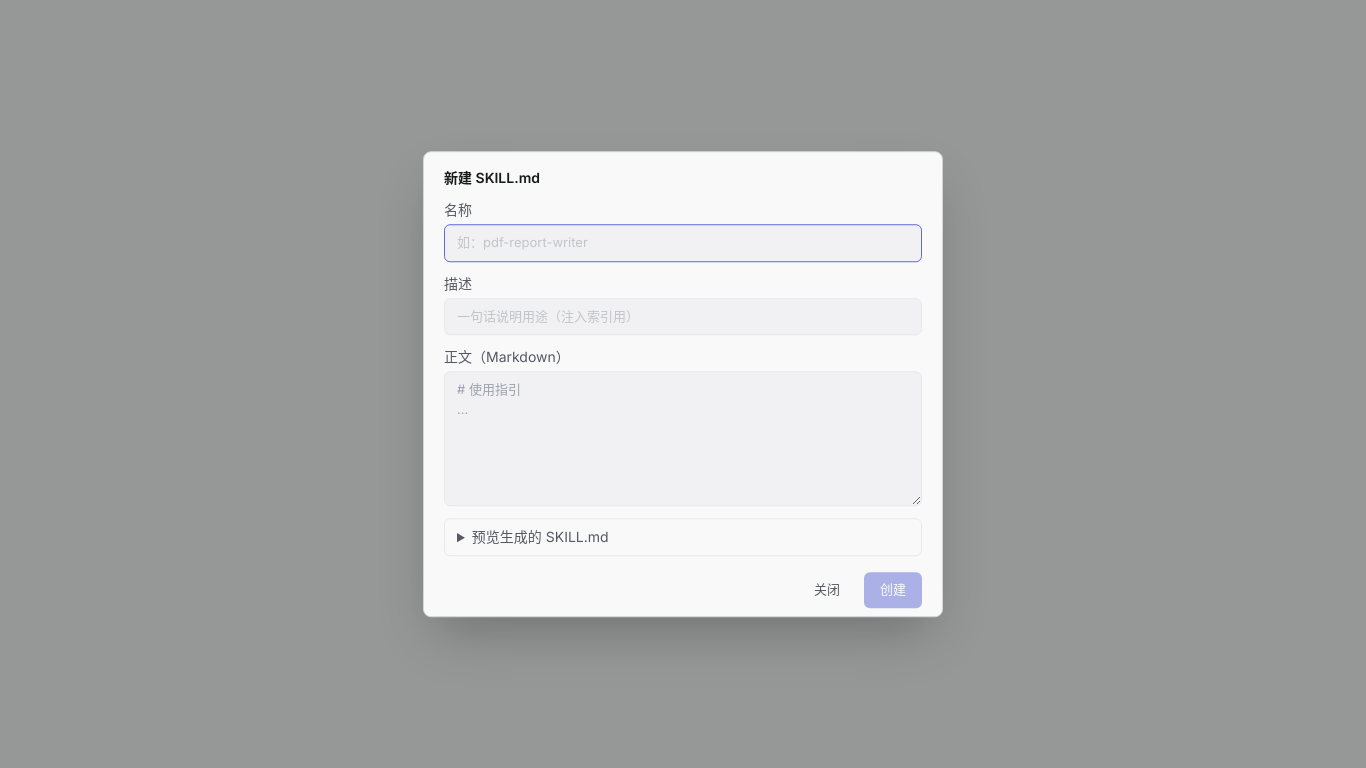
Scenario: SkillCreateDialog › slug 与已装 skill 同名时显示覆盖警示文案
Step 1. Type "dup" into the field labelled "名称" → {"x": 683, "y": 243}, box [444,224,922,262]
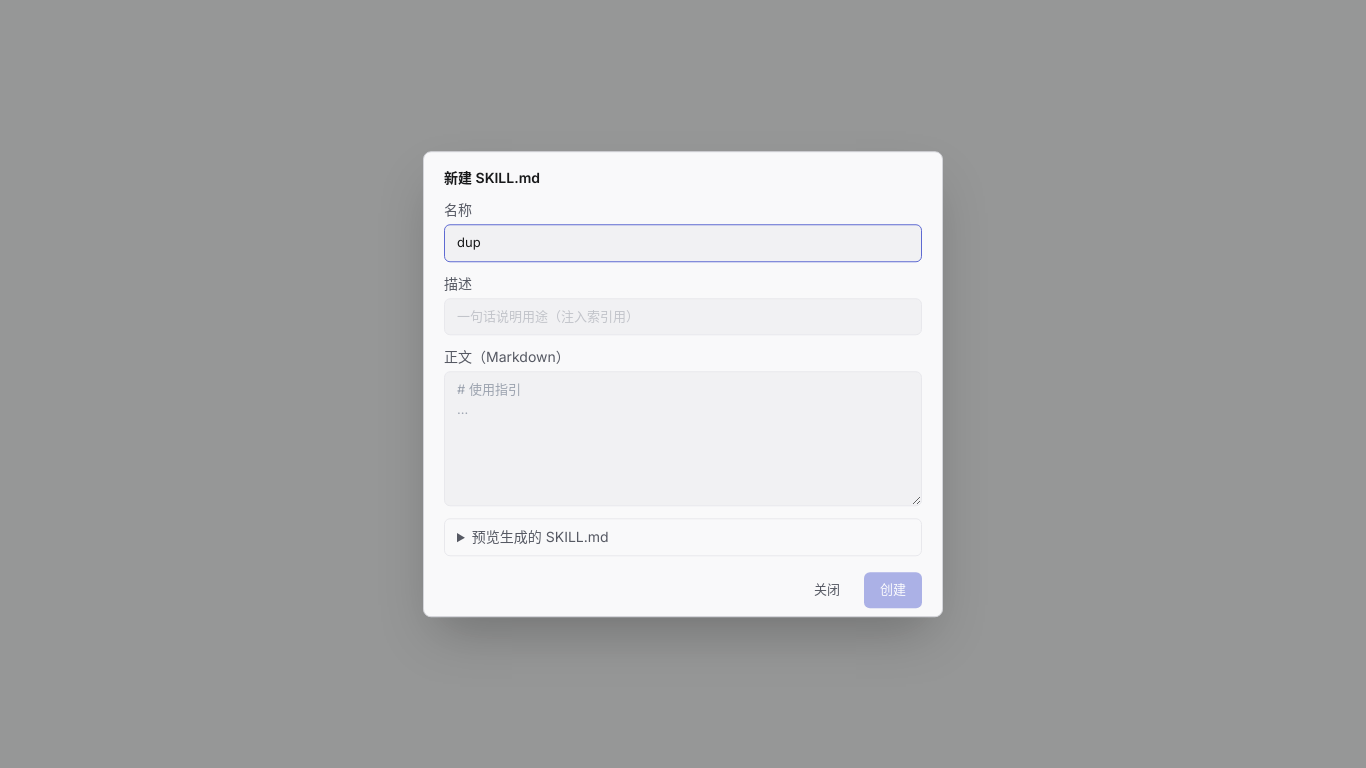
Step 2. Type "d" into the field labelled "描述" → {"x": 683, "y": 317}, box [444,298,922,335]
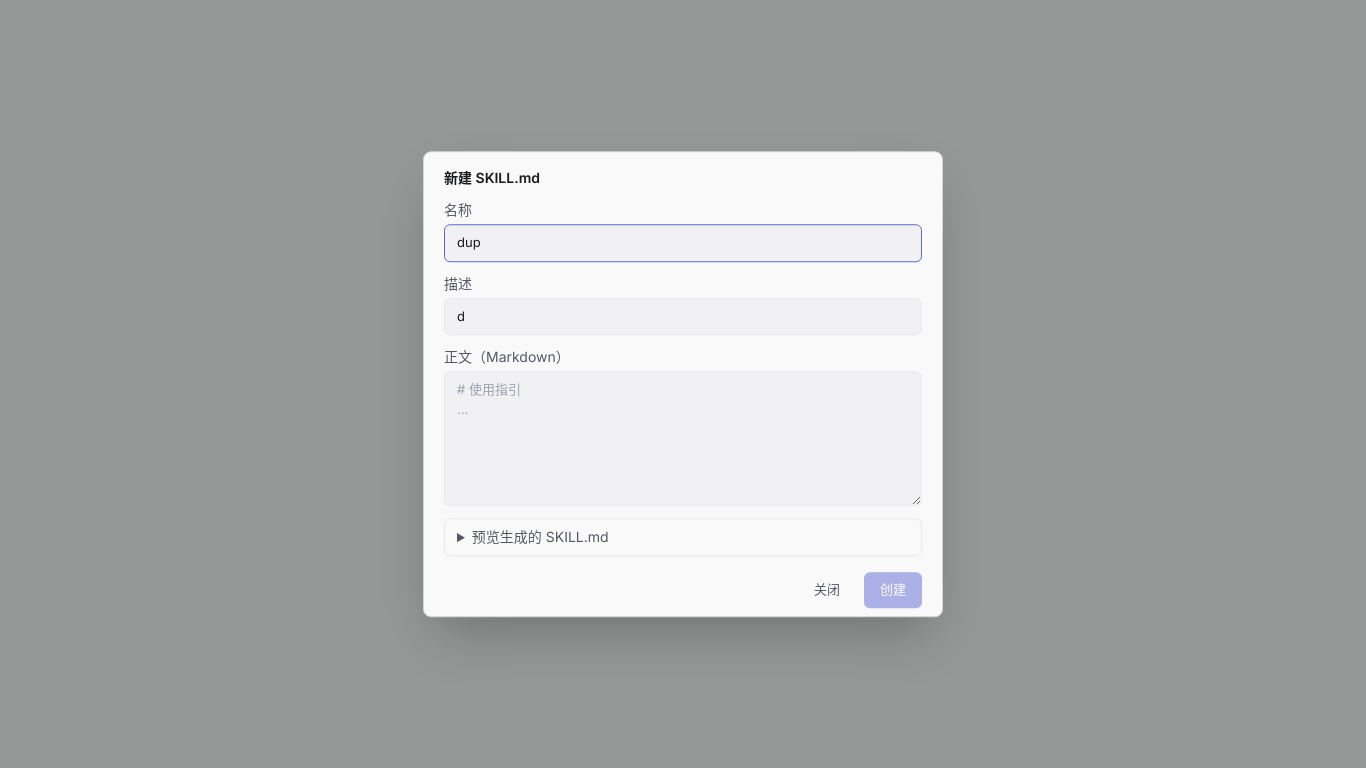
Step 3. Type "b" into the text box labelled "正文" → {"x": 683, "y": 439}, box [444,371,922,506]
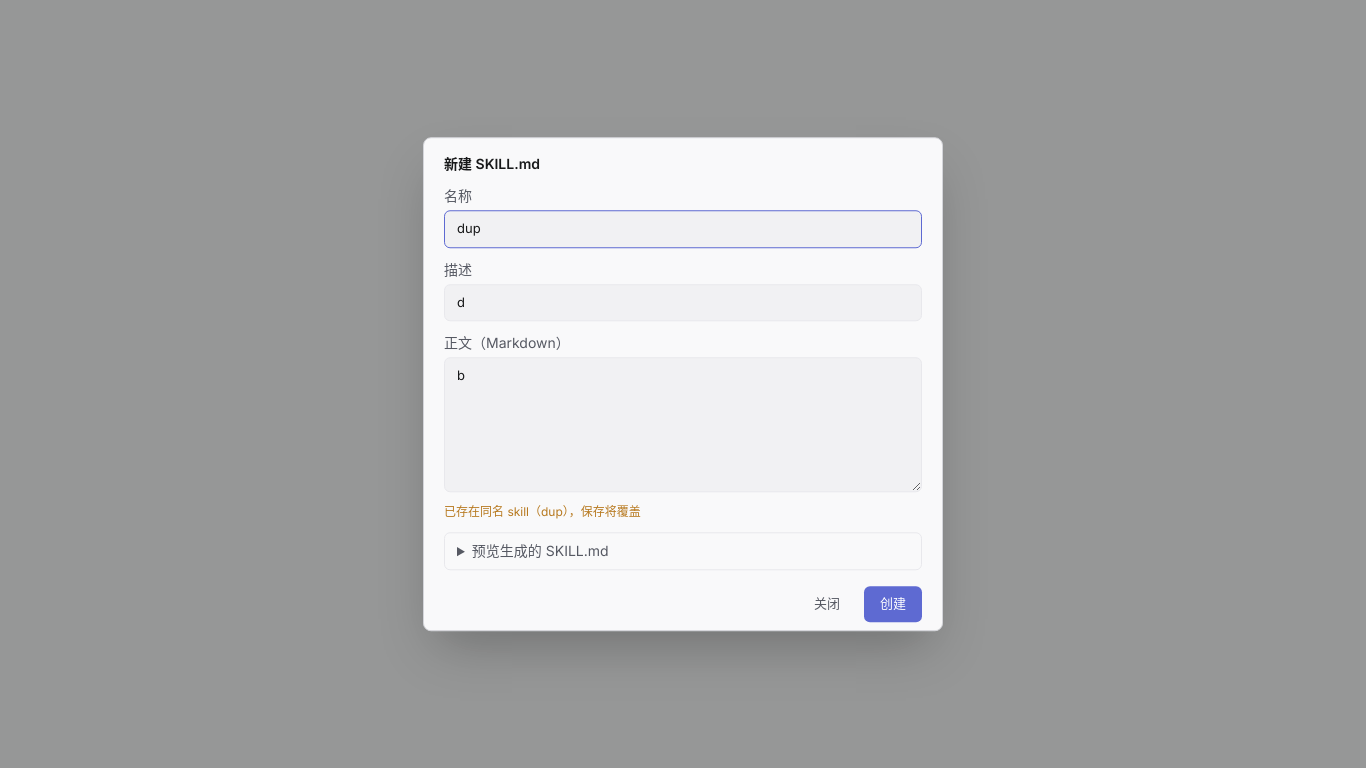
Now the text "已存在同名 skill（dup），保存将覆盖" is shown, box [444,504,641,519]
